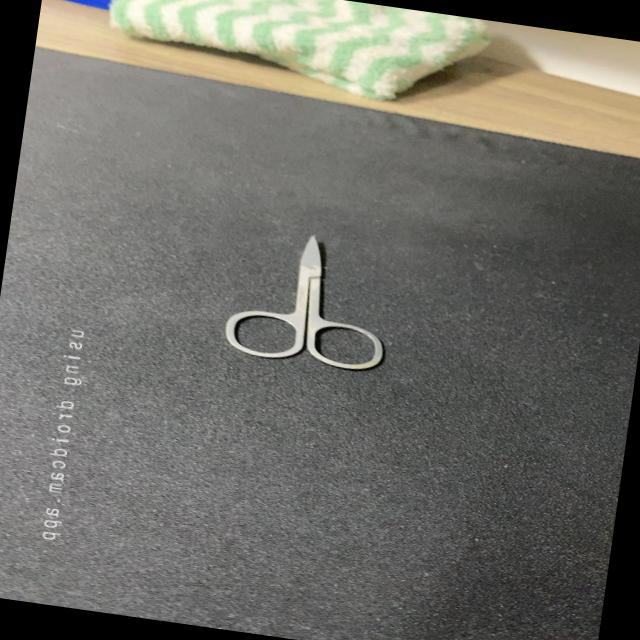scissor: (215, 217, 410, 378)
